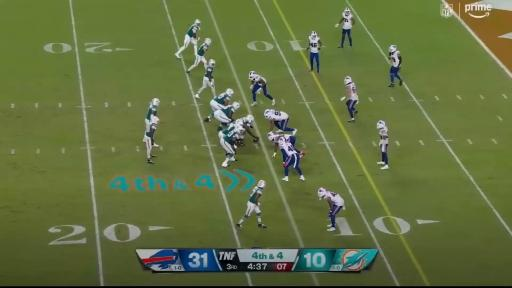Helmet: (318, 188, 327, 199), (264, 109, 272, 119), (267, 131, 275, 141), (257, 180, 266, 188), (232, 102, 241, 110), (236, 126, 244, 134), (151, 98, 159, 106), (377, 121, 385, 129), (246, 115, 254, 122), (151, 116, 159, 123), (235, 119, 243, 126), (389, 45, 396, 52), (226, 89, 233, 96), (249, 71, 255, 79), (311, 31, 317, 39), (345, 76, 351, 84), (209, 59, 215, 66), (344, 8, 350, 15), (205, 38, 211, 45), (278, 137, 285, 143), (195, 20, 201, 26)
Jersey: (279, 142, 297, 157), (326, 192, 344, 206), (249, 186, 262, 204), (347, 83, 358, 101), (214, 93, 230, 105), (223, 131, 236, 145), (270, 111, 288, 121), (309, 36, 319, 53), (145, 124, 156, 138), (379, 127, 388, 144), (343, 14, 353, 29), (146, 105, 156, 120), (272, 135, 290, 143), (391, 51, 400, 67), (222, 124, 235, 135), (187, 25, 198, 37), (253, 75, 266, 85), (198, 44, 208, 56), (205, 65, 214, 78), (222, 106, 234, 115)
Player: (236, 180, 266, 229), (318, 188, 345, 231), (279, 138, 304, 181), (175, 20, 200, 58), (204, 89, 233, 121), (220, 127, 243, 167), (249, 71, 275, 106), (187, 38, 211, 74), (264, 110, 297, 135), (335, 8, 355, 48), (195, 59, 215, 98), (214, 102, 240, 130), (235, 115, 259, 145), (144, 116, 159, 163), (268, 132, 295, 157), (345, 77, 358, 122), (307, 32, 321, 72), (389, 45, 402, 87), (377, 121, 388, 169), (145, 98, 159, 128), (218, 122, 239, 139)
